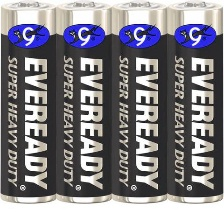battery: (109, 0, 172, 203), (53, 0, 114, 204), (165, 0, 224, 204), (0, 0, 58, 206)
